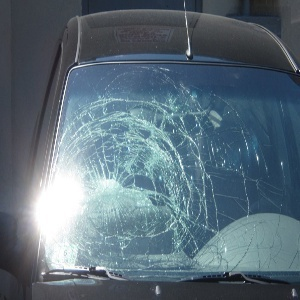door: (34, 56, 186, 237)
